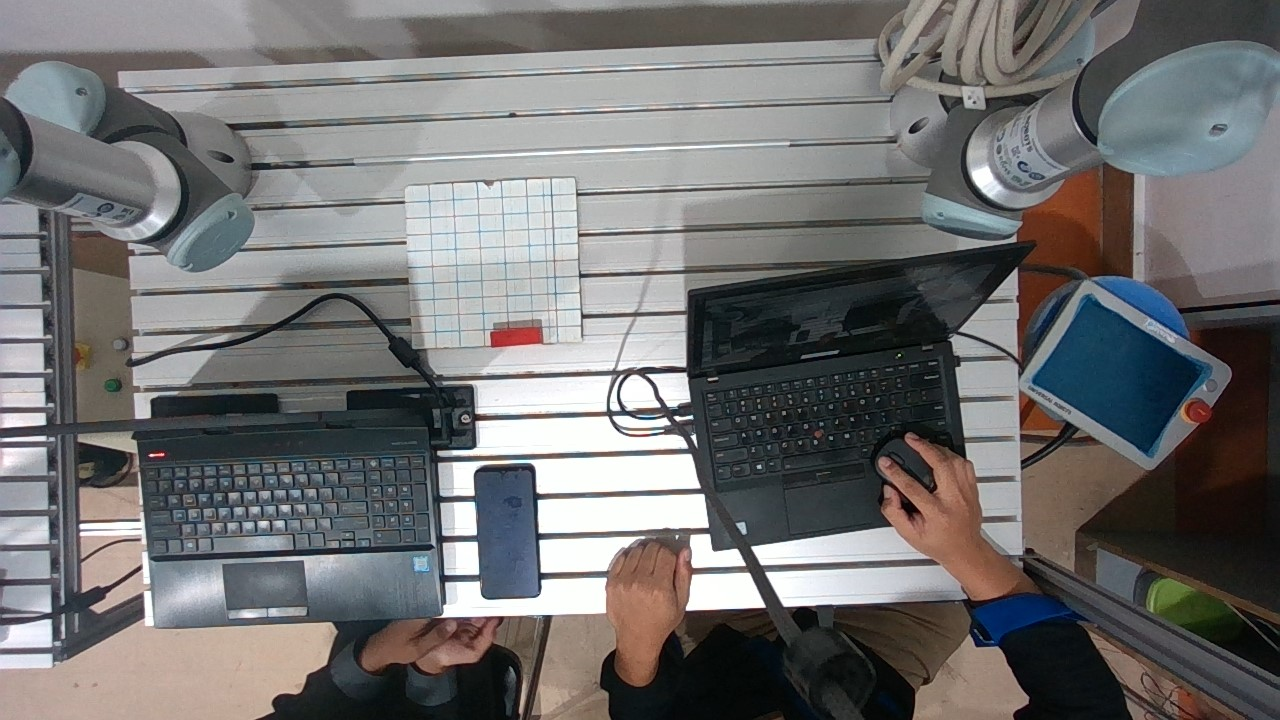box: (480, 317, 555, 353)
